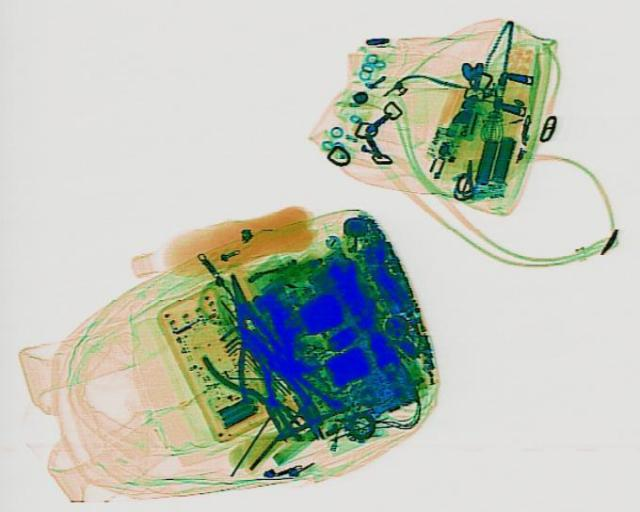Pliers: (198, 266, 306, 402), (191, 334, 317, 442)
